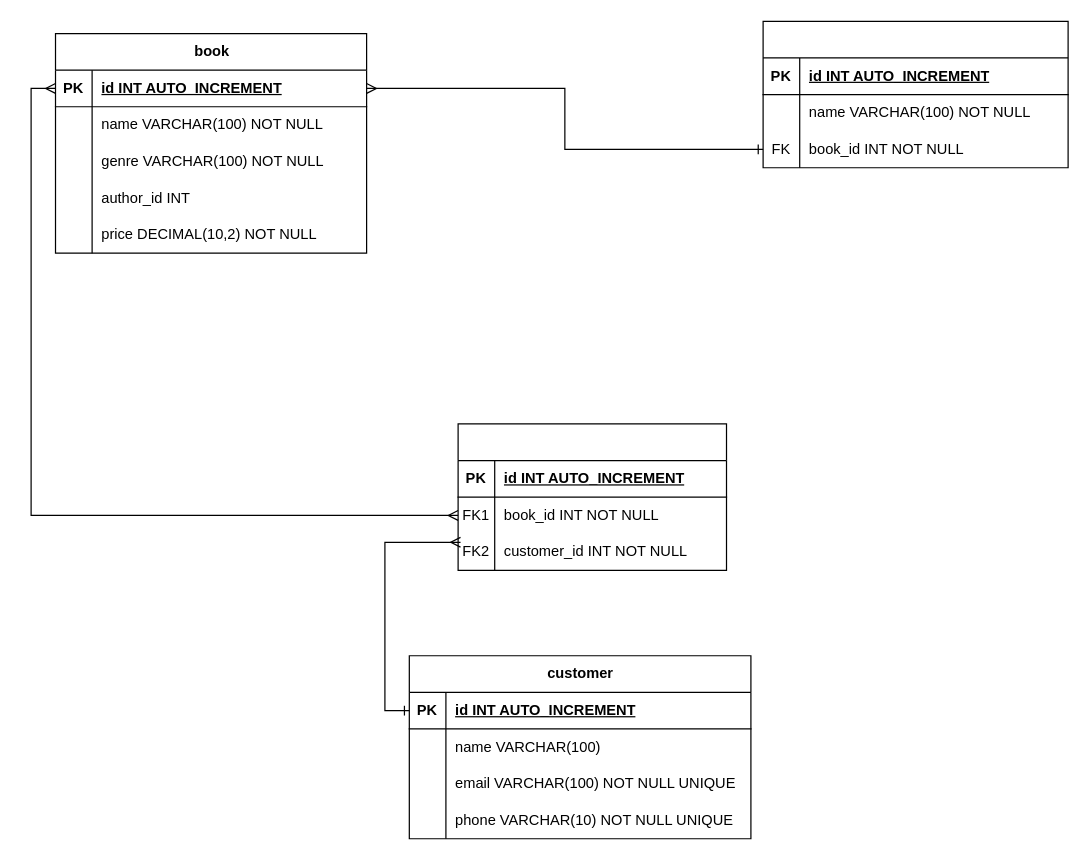
Image size: 1089x860. Some labels were removed from this diagram. Here are the shapes that lost their labels. From the top down, the box of each, then its label:
(762, 20, 1068, 168): authors
(457, 423, 727, 570): transactions
